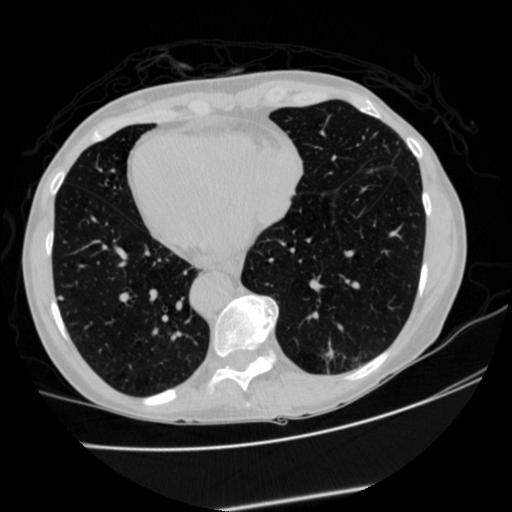nodule: (56, 291, 69, 304)
